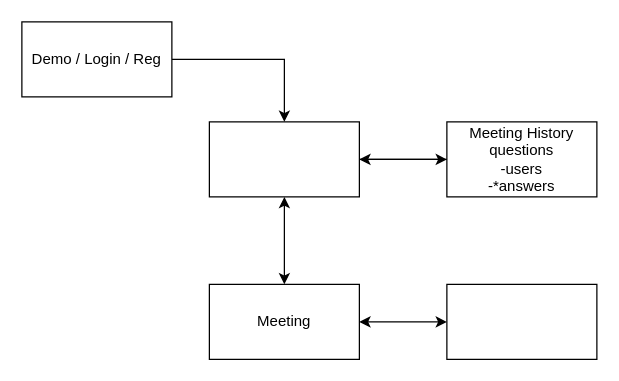
This 619x381 diagram has some shape labels left out. The centre of each missing label's shape, as x and y in pixels:
"Create/Join/Browse Meeting" goes at point 283,159.
"Current Meeting Summary/Status" goes at point 521,321.
